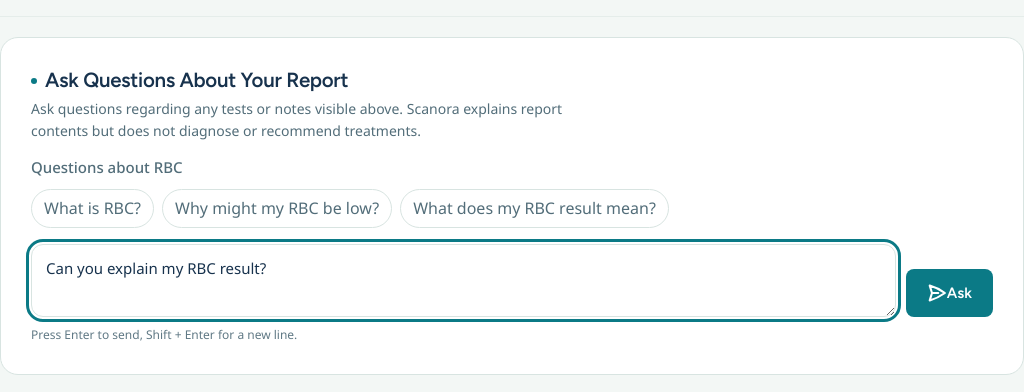
composer prefill, expiry, and hints › shows finding-specific suggested questions that only fill the composer
This screenshot has width=1024, height=392.
Check: the button "What is RBC?" is shown, box [31,189,154,228]
Click the button "Why might my RBC be low?" at coordinates (277, 208), box [162,189,392,228]
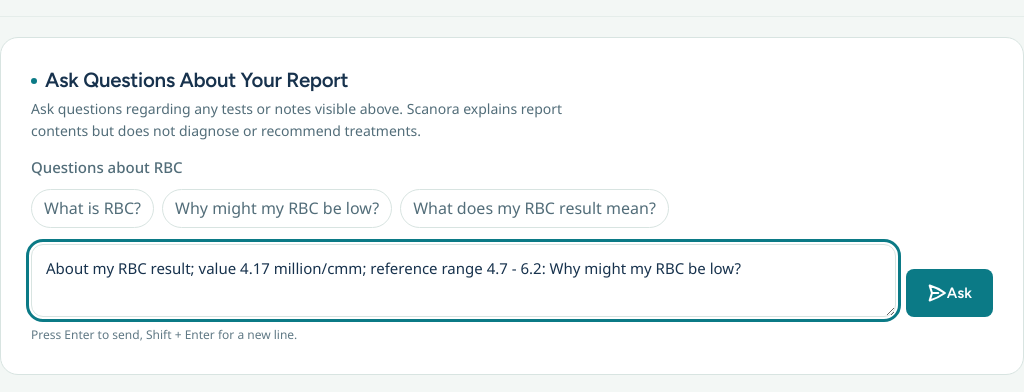
Check: the text box with placeholder "e.g. What does out-of-range Hematocrit mean?" holds "About my RBC result; value 4.17 million/cmm; reference range 4.7 - 6.2: Why might my RBC be low?", box [31,244,896,317]
